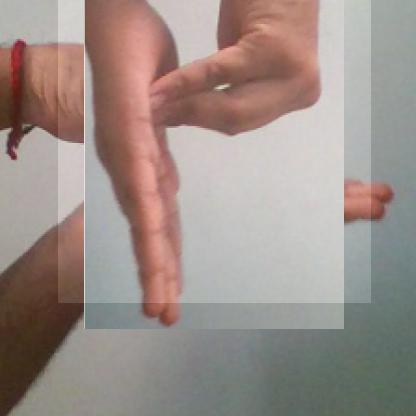Z: (58, 0, 372, 304)
